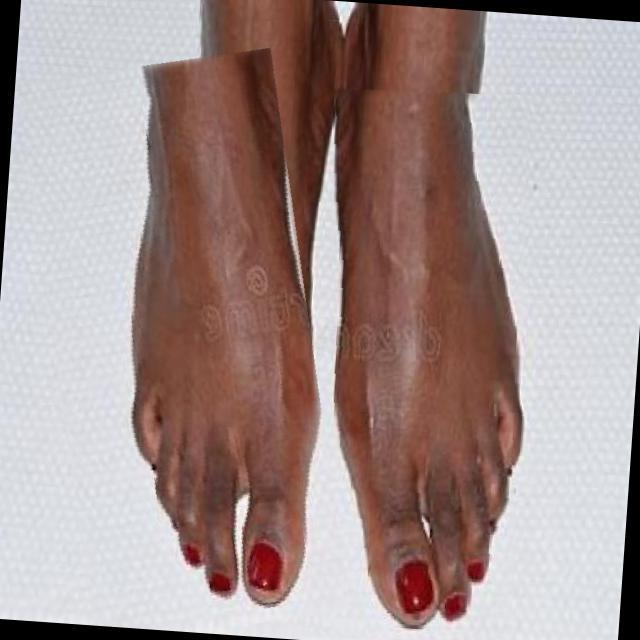No_Shoes: (322, 52, 554, 618), (111, 17, 327, 611)
